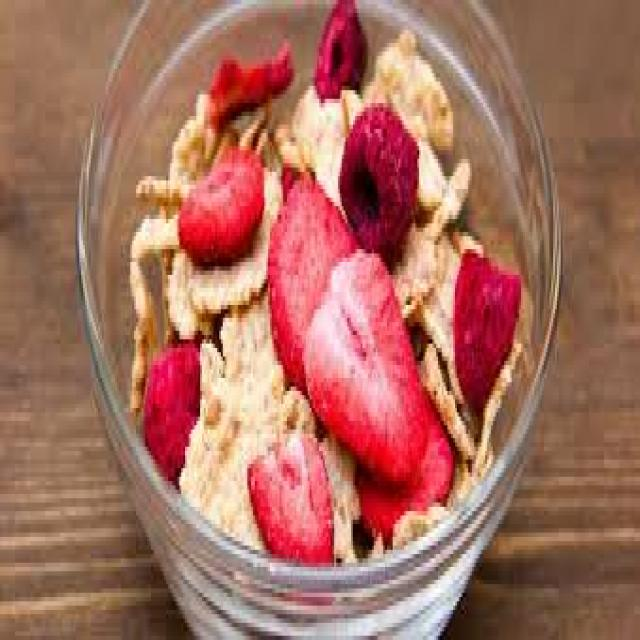organic waste: (302, 245, 423, 477), (264, 172, 359, 386), (181, 168, 283, 309), (351, 387, 453, 524), (451, 245, 521, 425), (338, 103, 417, 254), (421, 219, 485, 404), (244, 421, 330, 558), (174, 137, 262, 258), (370, 30, 453, 150), (181, 344, 238, 506), (140, 344, 198, 494), (213, 404, 274, 537), (219, 296, 285, 417), (413, 340, 474, 456), (470, 331, 519, 464), (208, 39, 290, 116), (312, 0, 366, 99), (317, 425, 359, 550), (164, 86, 217, 172), (292, 82, 346, 163), (126, 262, 155, 408), (257, 365, 317, 434), (425, 146, 470, 236), (393, 219, 434, 314), (162, 236, 198, 340), (385, 485, 461, 524), (132, 154, 193, 198), (127, 211, 181, 249), (414, 142, 446, 206), (259, 116, 302, 163), (444, 456, 474, 502), (238, 95, 266, 142), (219, 116, 242, 146)
